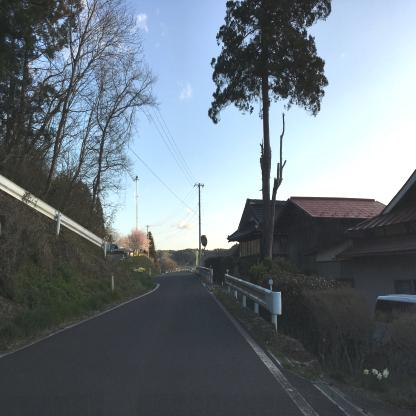Someiyoshino: (117, 221, 158, 259)
